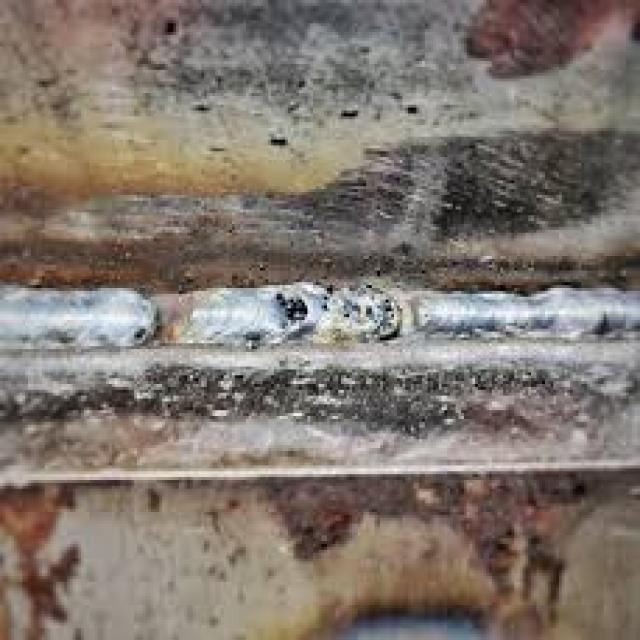Bad Weld: (2, 279, 632, 349)
Defect: (271, 285, 408, 338)
